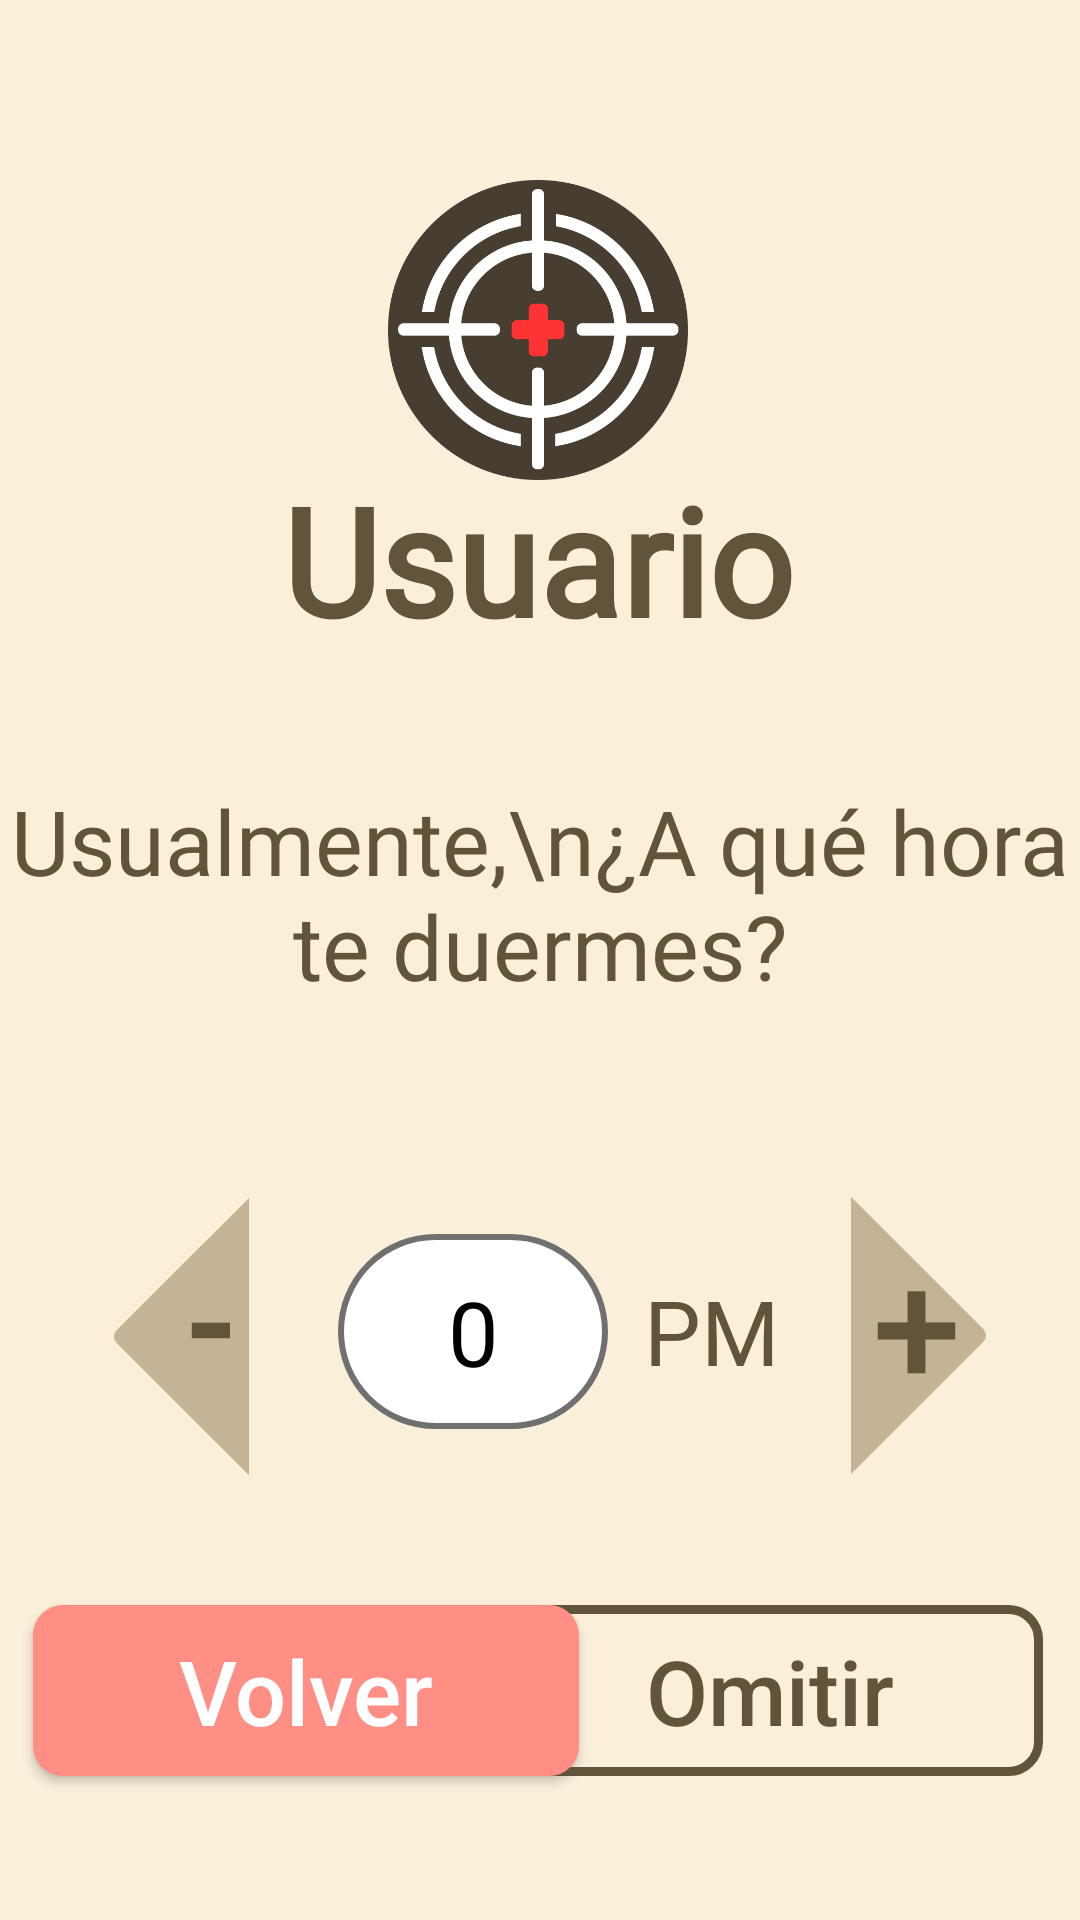

Icon click points for this 1080 x 1920 phone screenshot, format (x,y):
Icono Aplicación Mira Roja: (538,330)
